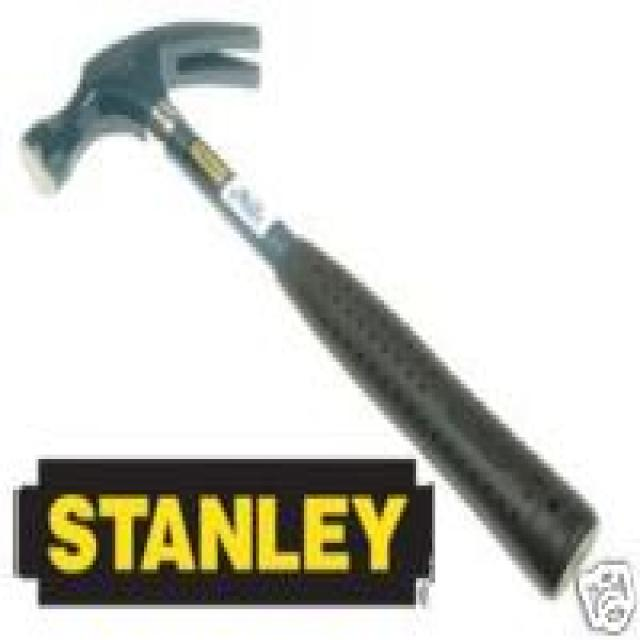hammer: (18, 0, 437, 389)
